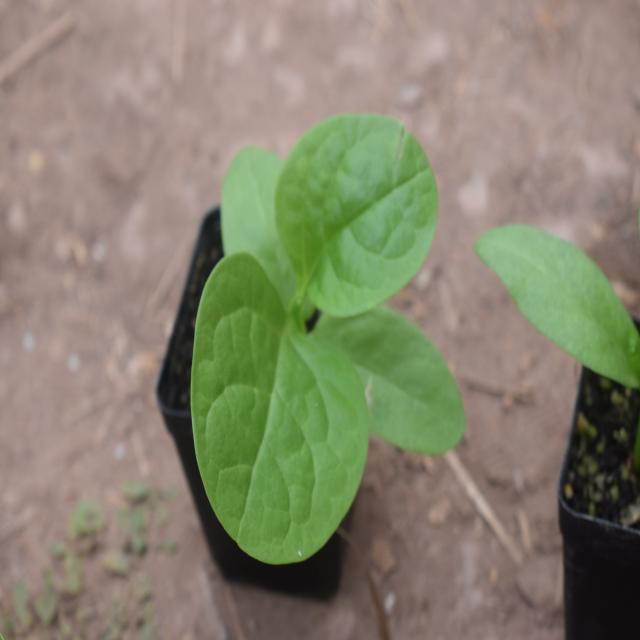Ceylon spinach: (196, 128, 447, 538)
